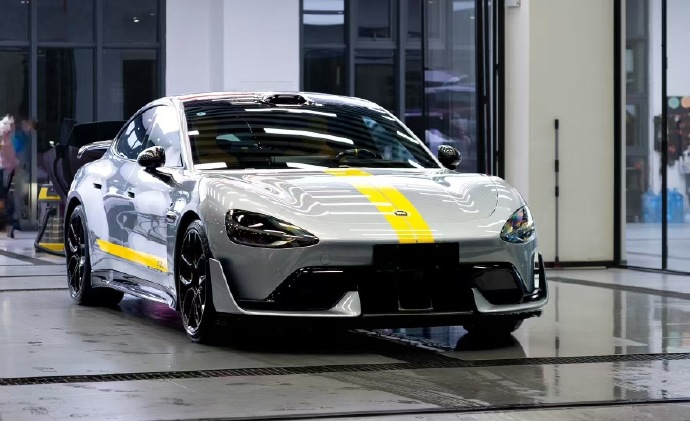su7: (54, 88, 546, 337)
